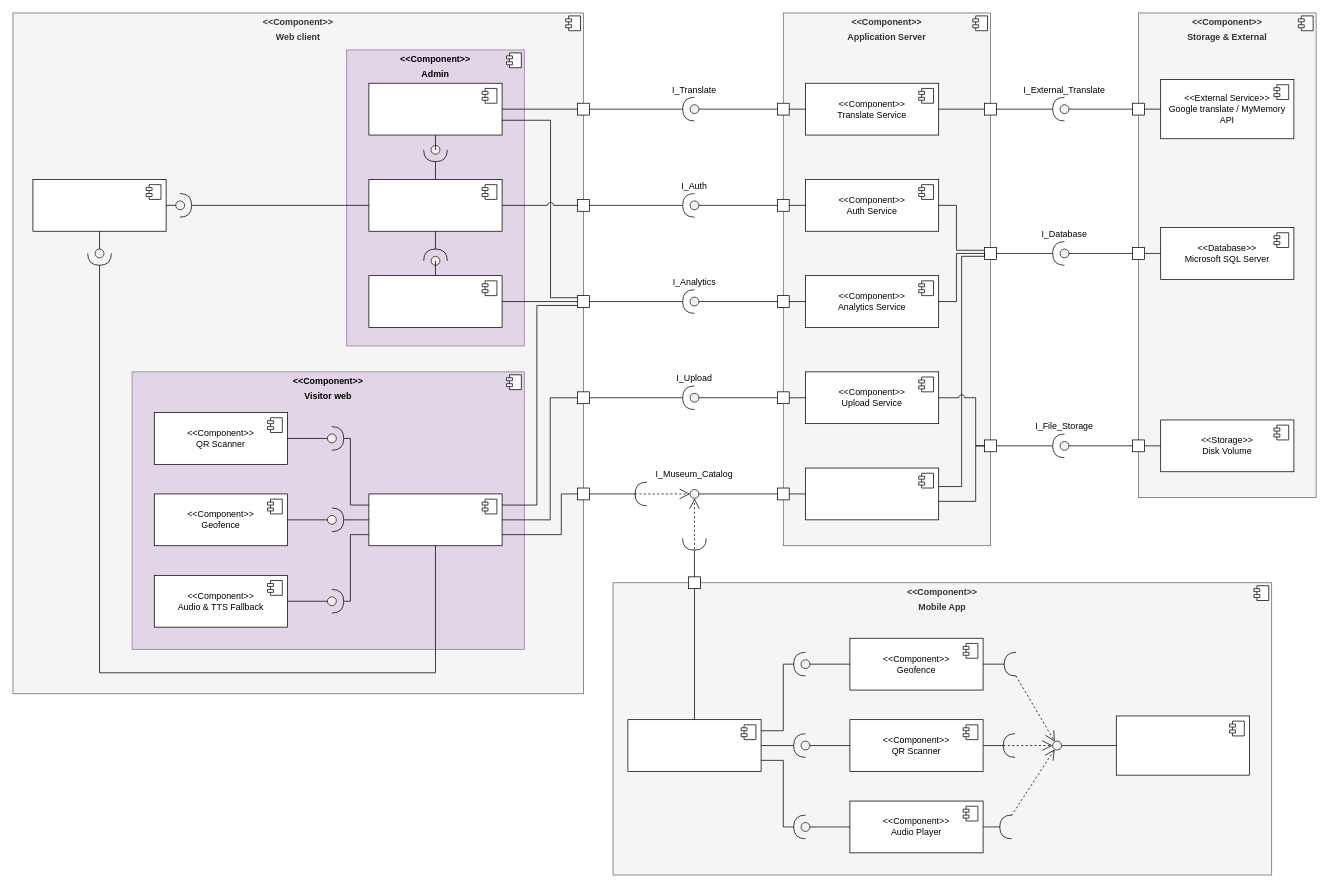
Image size: 1329x888. Some labels were removed from this diagram. The centre of each missing label's shape, as x and y in pixels:
"<<browser storage>> LocalStorage" goes at (x=99, y=205).
"<<Component>> Admin Auth Guard" goes at (x=435, y=205).
"<<Component>> Artifact, Map, Audio CRUD" goes at (x=435, y=109).
"<<Component>> Mobile Tab & Detail UI" goes at (x=694, y=745).
"<<Component>> Museum Service" goes at (x=872, y=493).
"<<Component>> Sessions, QR & Analytics" goes at (x=435, y=301).
"<<Component>> Visitor GUI & MAP" goes at (x=435, y=519).
"<<Database>> Bundled Assets & AsyncStorage" goes at (x=1182, y=745).
